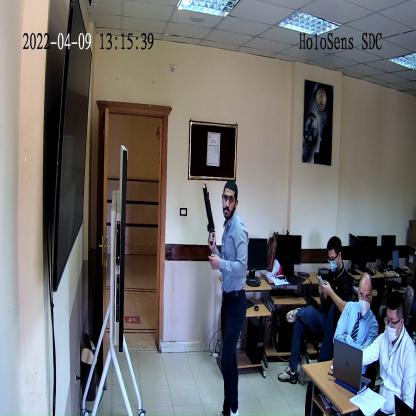handgun: (202, 185, 218, 244)
